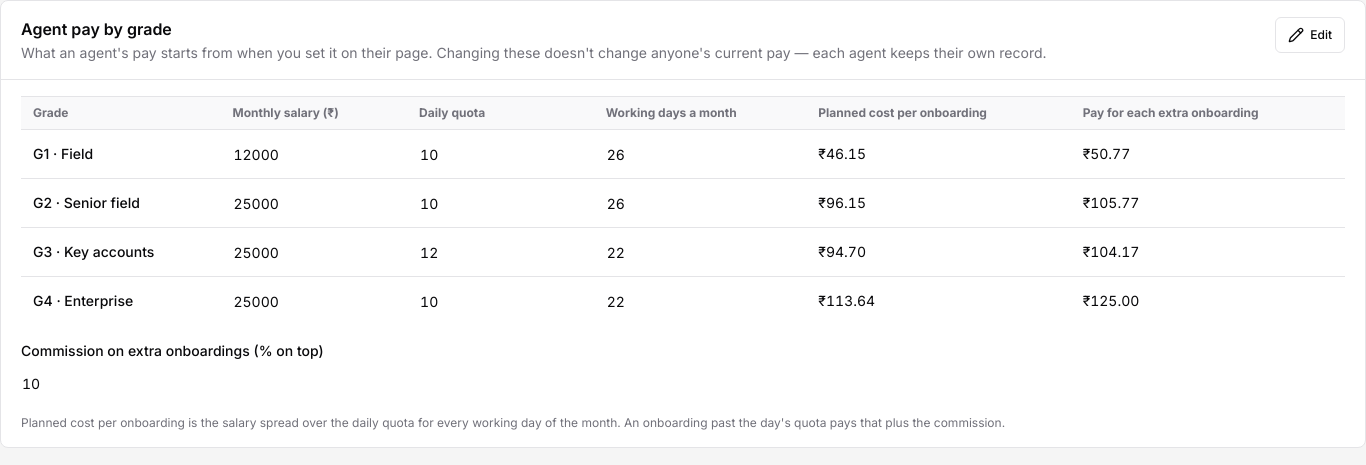
it: Agent pay by grade › turns the inputs on with Edit, follows the typing, and saves only what moved
The width and height of the screenshot is (1366, 465).
Click the button "Edit" at (1310, 35), box [1275,17,1345,53]
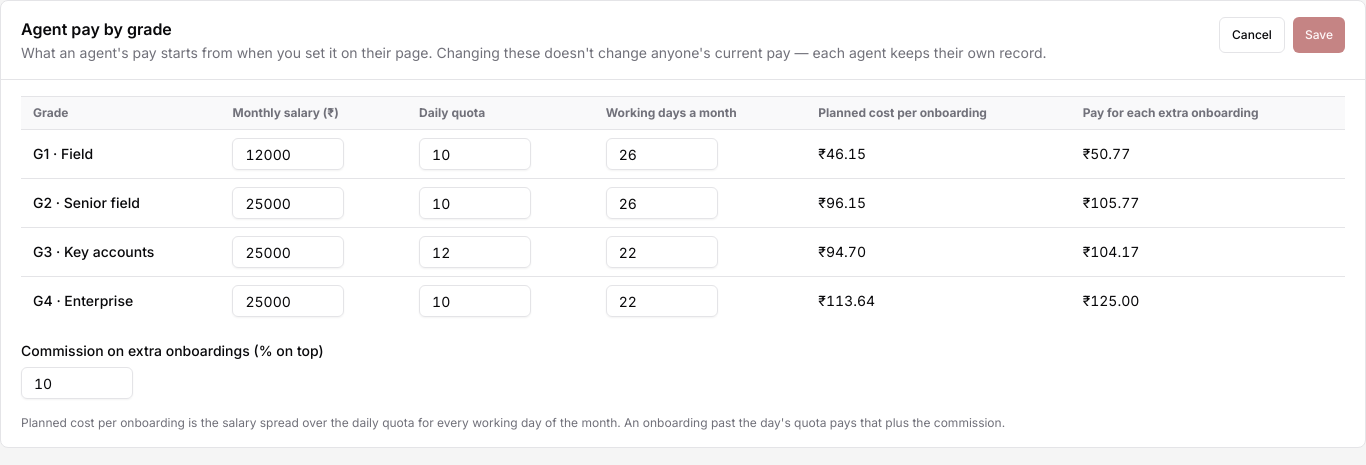
Expected: the field named "G2 · Senior field monthly salary" is enabled
Expected: the button "Save" is disabled, [1293,17,1345,53]
Replace the text in the field named "G2 · Senior field monthly salary" with "30000" at (288, 203), box [232,187,344,219]
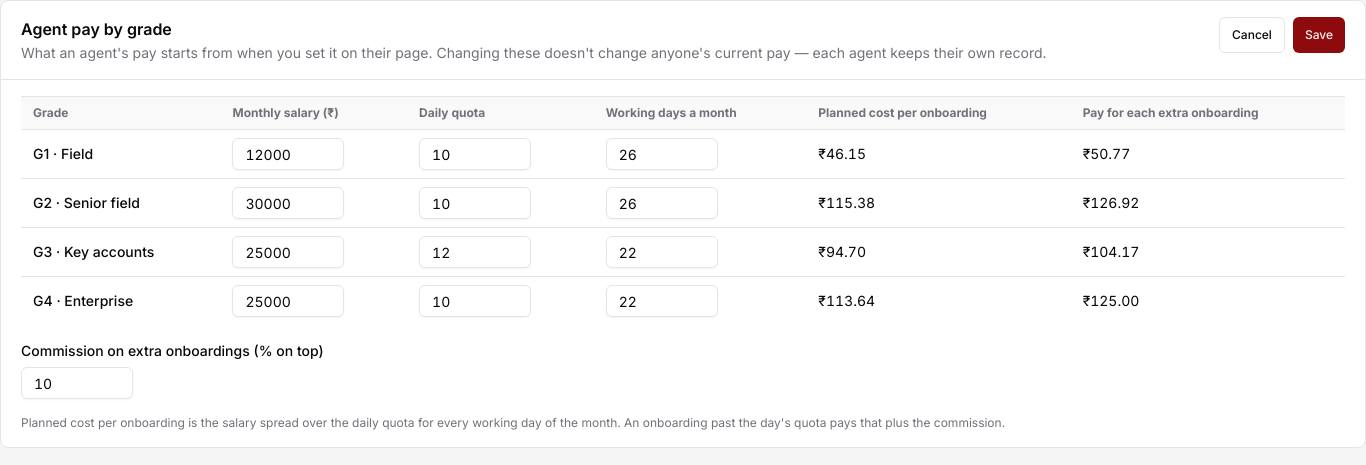
Expected: the cell with test id "pay-unit-G2" reads "₹115.38", [818,194,875,211]
Expected: the cell with test id "pay-extra-G2" reads "₹126.92", [1083,194,1139,211]
Replace the text in the field labelled "Commission on extra onboardings (% on top)" with "15" at (77, 383), box [21,367,133,399]
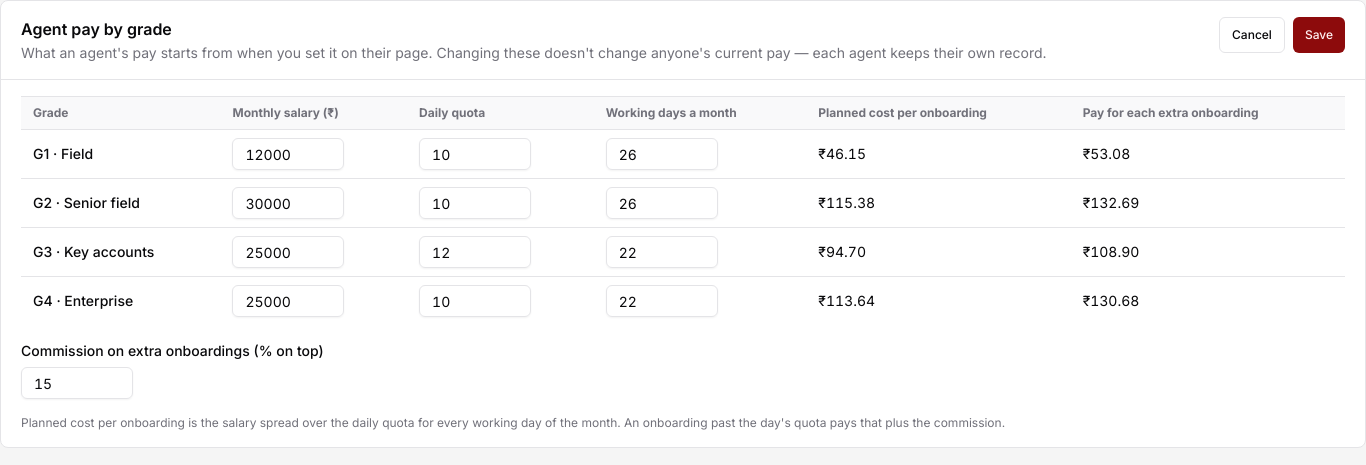
Click the button "Save" at (1319, 35), box [1293,17,1345,53]
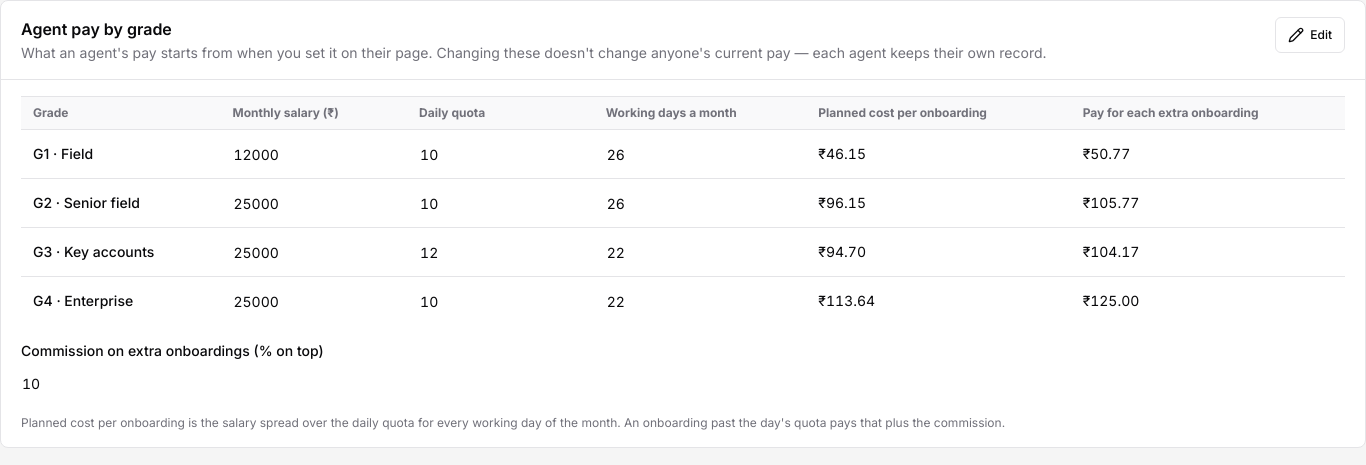
Expected: the button "Edit" is shown, [1275,17,1345,53]
